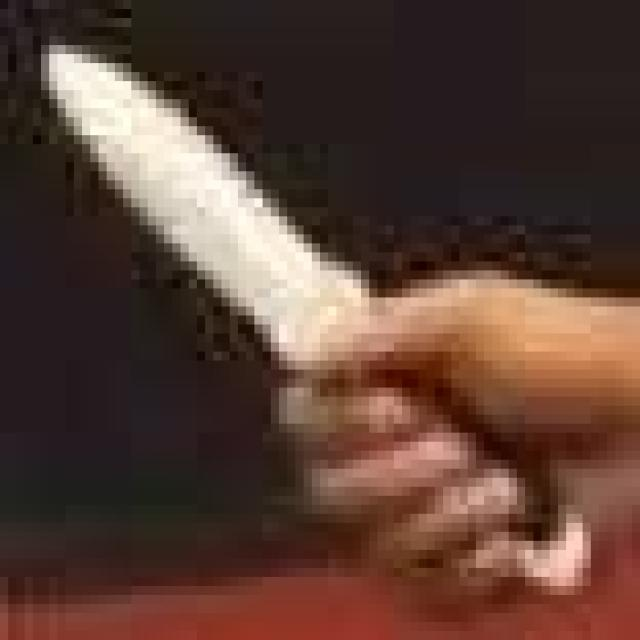Knife: (35, 10, 603, 617)
